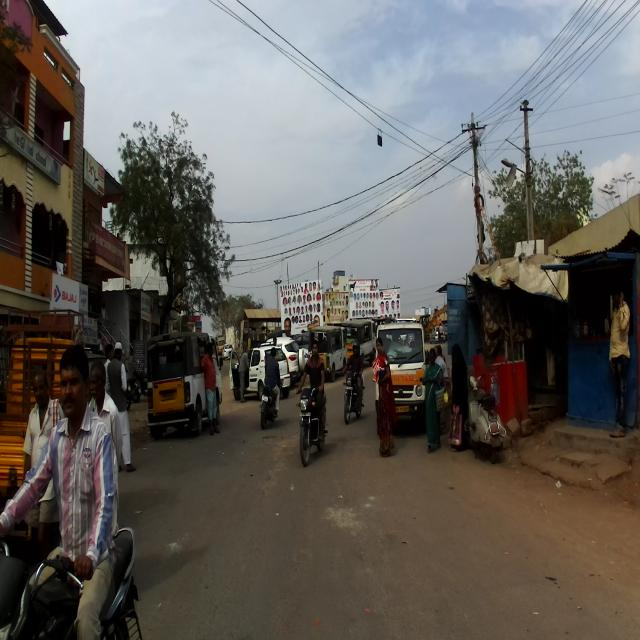motorcycle ahead at: (295, 382, 331, 468)
person ahead at: (370, 332, 402, 464)
